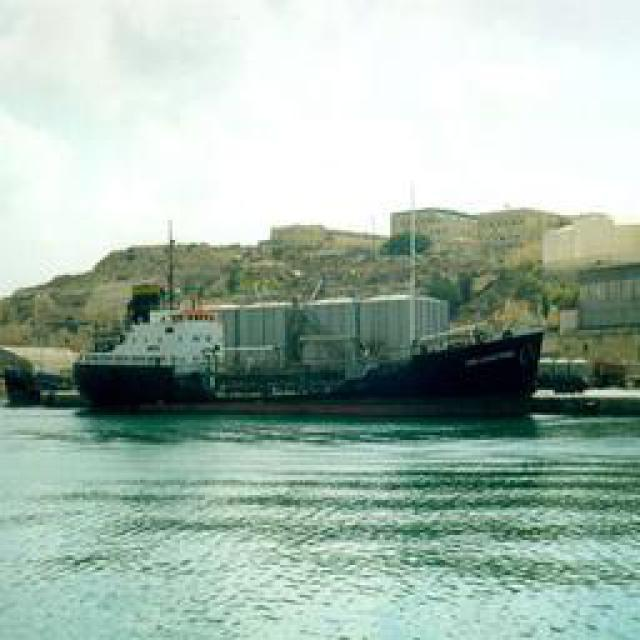Ship: (84, 286, 479, 409)
